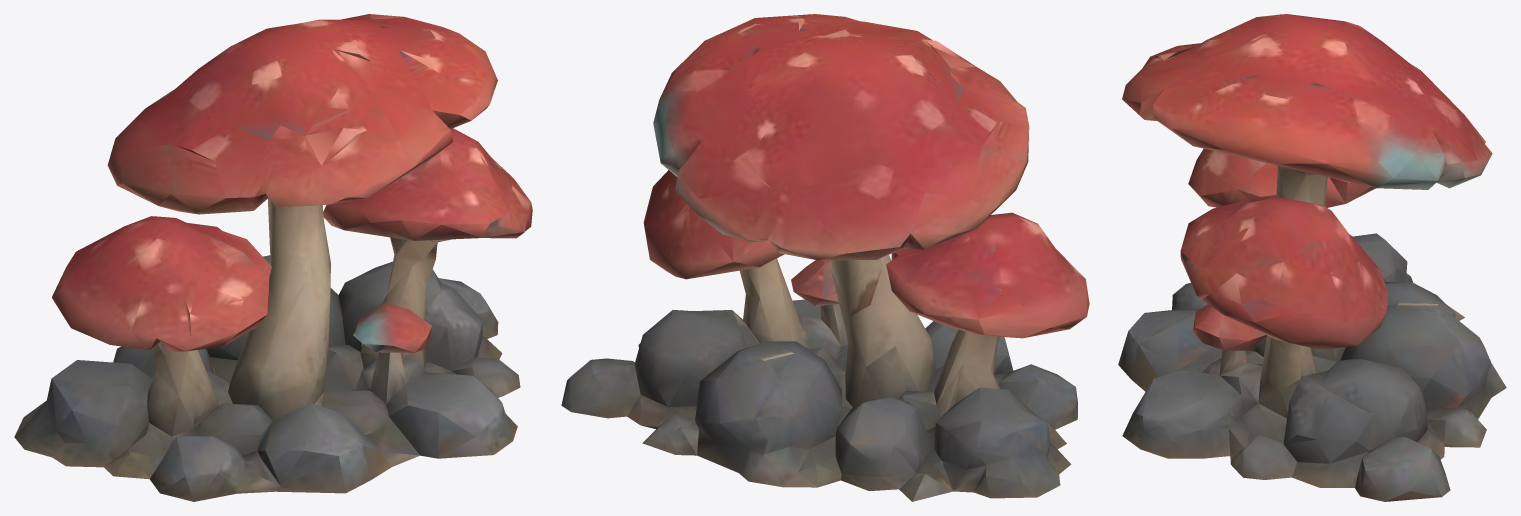
The model's file is setas_rojas.glb.
The picture shows the model from 3 angles, left to right: view 1: azimuth 30°, elevation 25°; view 2: azimuth 150°, elevation 25°; view 3: azimuth 270°, elevation 25°; orthographic projection. The views are drawn at different scales.
Parts seen in each view (by area): view 1: setas_rojas_malla; view 2: setas_rojas_malla; view 3: setas_rojas_malla.
Part boxes in pixels (left/top/right/bottom): setas_rojas_malla: left=14, top=14, right=532, bottom=501; setas_rojas_malla: left=561, top=14, right=1089, bottom=501; setas_rojas_malla: left=1118, top=14, right=1506, bottom=501.
Bounding box in the file's own units: 0.271 × 0.1985 × 0.1925.
Materials: 1 (1 with a texture image).
